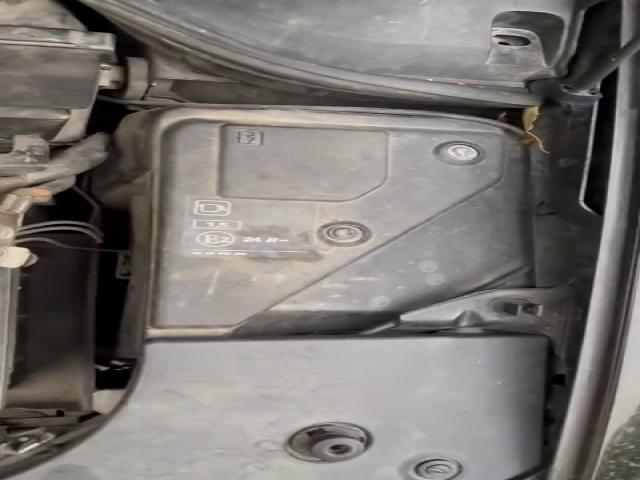fuse_box: (155, 123, 533, 331)
